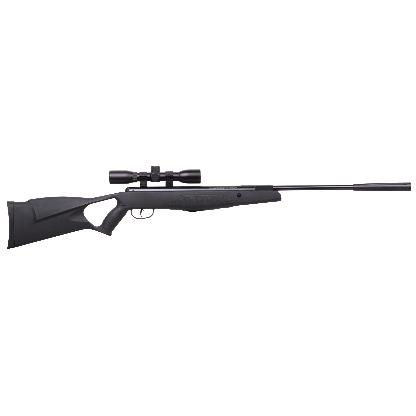gun: (4, 167, 412, 250)
